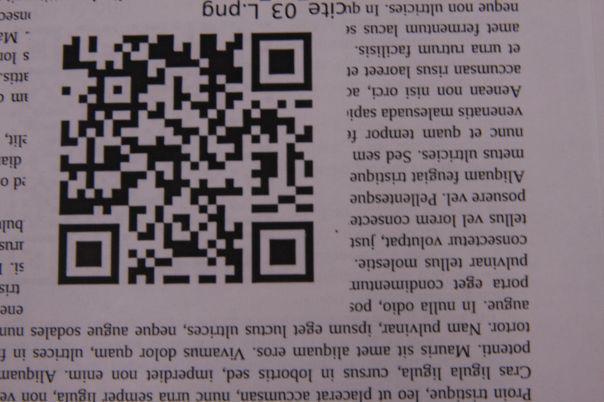Finder pattern: (250, 217, 321, 287), (246, 27, 317, 96), (56, 221, 126, 288)
